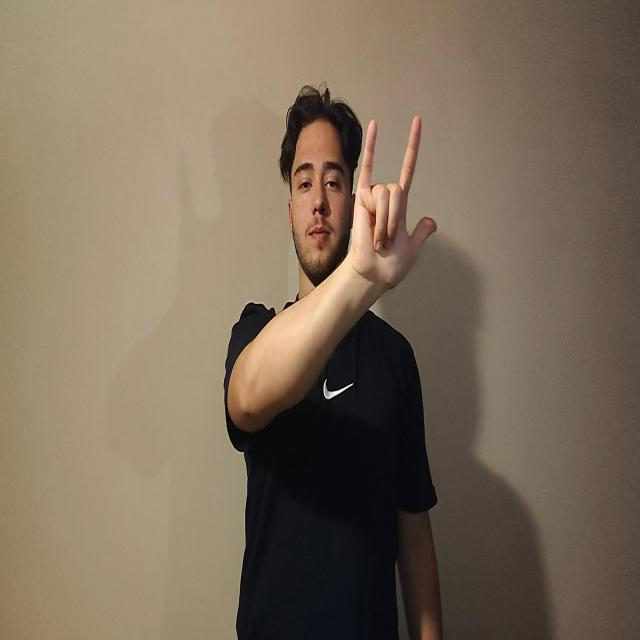iloveyou: (350, 114, 438, 294)
